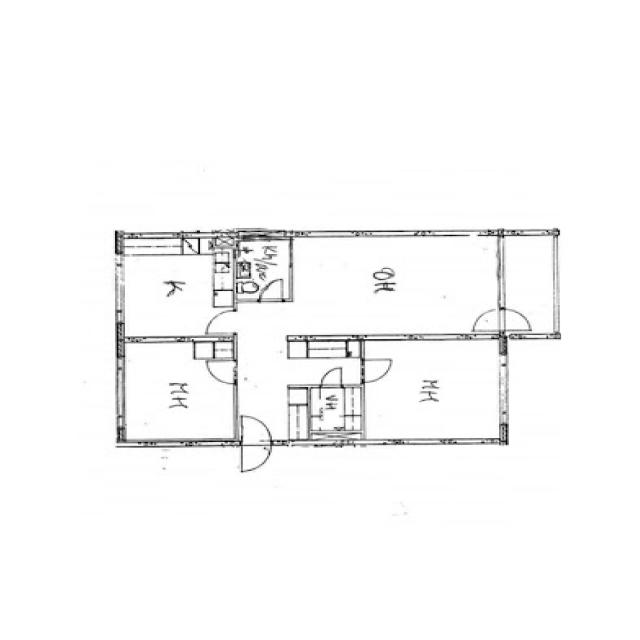door: (242, 438, 272, 472), (242, 413, 272, 446), (205, 310, 238, 334), (473, 307, 507, 330), (500, 307, 534, 330), (362, 358, 394, 382), (206, 360, 238, 383), (259, 279, 283, 301), (321, 367, 341, 387)
